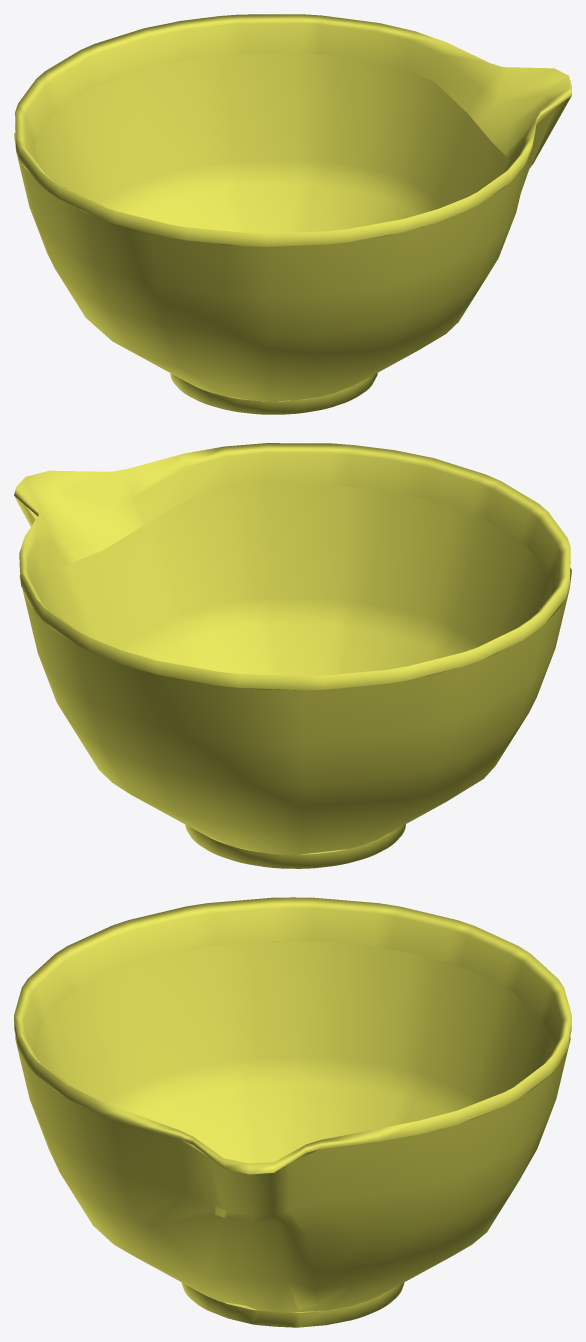
Rendered from plasticbowl_reduced.fbx.
3 views of the same model, one above another, from view 1: azimuth 30°, elevation 25°; view 2: azimuth 150°, elevation 25°; view 3: azimuth 270°, elevation 25° (orthographic). The views are drawn at different scales.
Parts seen in each view (by area): view 1: polySurface9, polySurface6, polySurface8; view 2: polySurface9, polySurface6, polySurface8; view 3: polySurface9, polySurface6, polySurface8.
Boxes of the visible parts, bbox=[...] form: polySurface9: bbox=[14, 53, 571, 401]; polySurface6: bbox=[15, 14, 571, 246]; polySurface8: bbox=[170, 373, 377, 414]; polySurface9: bbox=[14, 484, 571, 854]; polySurface6: bbox=[14, 443, 570, 690]; polySurface8: bbox=[185, 824, 405, 868]; polySurface9: bbox=[15, 940, 570, 1312]; polySurface6: bbox=[14, 897, 571, 1174]; polySurface8: bbox=[181, 1282, 404, 1327].
Size of the model in its own units: 21.62 by 10.19 by 19.4.
